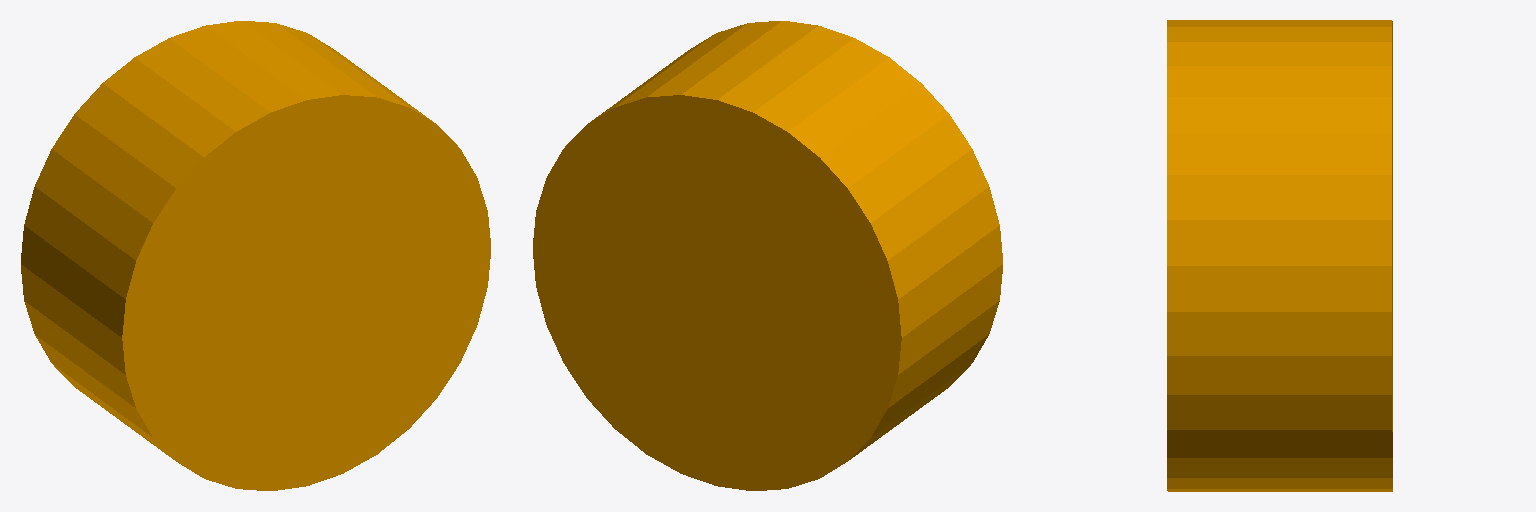
The robot description file, URDF, robot "my_robot":
<?xml version="1.0"?>
<robot name="my_robot">

<material name="black">
    <color rgba="0.0 0.0 0.0 1.0"/>
  </material>
  <material name="blue">
    <color rgba="0.203125 0.23828125 0.28515625 1.0"/>
  </material>
  <material name="green">
    <color rgba="0.0 0.8 0.0 1.0"/>
  </material>
  <material name="grey">
    <color rgba="0.2 0.2 0.2 1.0"/>
  </material>
  <material name="orange">
    <color rgba="1.0 0.423529411765 0.0392156862745 1.0"/>
  </material>
  <material name="brown">
    <color rgba="0.870588235294 0.811764705882 0.764705882353 1.0"/>
  </material>
  <material name="red">
    <color rgba="0.80078125 0.12890625 0.1328125 1.0"/>
  </material>
  <material name="white">
    <color rgba="1.0 1.0 1.0 1.0"/>
  </material>
  
    <gazebo reference="link_chassis">
    <material>Gazebo/Orange</material>
  </gazebo>
  <gazebo reference="link_left_wheel">
    <material>Gazebo/Blue</material>
  </gazebo>
  <gazebo reference="link_right_wheel">
    <material>Gazebo/Blue</material>
  </gazebo>
  
  
<!--
  
  <link name="base_link">
      <pose>0 0 0.1 0 0 0</pose>
    <inertial>
      <mass value="5"/>
      <origin rpy="0 0 0" xyz="0.013449 -0.000001 -0.024081"/>
      <inertia ixx="1.392949" ixy="0" ixz="-0.000108" iyy="1.392846" iyz="-0.000000" izz="-1.000000"/>
    </inertial>
	<visual>
	  <origin rpy="0 0 0" xyz="0 0 0"/>
	<geometry>
        <mesh filename="package://per_robot_urdf/meshes/two_plate.dae"/>
      </geometry>
      <material name="red"/>
    </visual>
    <collision >
      <geometry>
        <mesh filename="package://per_robot_urdf/meshes/two_plate.dae"/>
      </geometry>
    </collision>

  </link>

<joint name="joint_right_wheel" type="continuous">
	<parent link="base_link"/>
	<child link="right_wheel"/>
	<origin xyz="0 -0.30 0" rpy="0 0 0" />
	<axis xyz="0 1 0" />
</joint>
-->
  


    <link name="link_right_wheel">
    <inertial>
      <mass value="0.2"/>
      <origin rpy="0 1.570700 1.0472" xyz="1.10000 1.9 -0.3"/>
      <inertia ixx="0.000526666666667" ixy="0" ixz="0" iyy="0.000526666666667" iyz="0" izz="0.001"/>
    </inertial>
    <collision name="link_right_wheel_collision">
      <origin rpy="0 1.5707 1.5707" xyz="0 0 0"/>
	<geometry>
	 <cylinder length="2.1" radius="2.2" />
	</geometry>
    </collision>
    <visual name="link_right_wheel_visual">
      <origin rpy="0 1.5707 1.5707" xyz="0 0 0"/>
	<geometry>
	 <cylinder length="2.1" radius="2.2" />
	</geometry>
    </visual>
  </link>

        
  

      
      
      
            
     
  
 <!--    <joint type="continuous" name="right_wheel_hinge">
      <origin xyz="1.10000 1.9 -0.3" rpy="0 1.570700 1.0472"/>
      <axis rpy="0 1.570700 1.0472" xyz="1.10000 1.9 -0.3"/>
       <child link="right_wheel"/>
       <parent link="base_link"/>
       <limit effort="10000" velocity="1000"/>
       <joint_properties damping="1.0" friction="1.0"/>
   </joint>

  -->

      
      
      
      
      
      
</robot>

--- Render facts (derived) ---
The picture shows the robot from 3 angles, left to right: view 1: azimuth 30°, elevation 25°; view 2: azimuth 150°, elevation 25°; view 3: azimuth 270°, elevation 25°; orthographic projection.
Robot: my_robot — 1 links, 0 joints (none); root link link_right_wheel; default pose: every joint at zero.
Links seen in each view (by area): view 1: link_right_wheel; view 2: link_right_wheel; view 3: link_right_wheel.
Link boxes in pixels (left/top/right/bottom): link_right_wheel: left=21, top=21, right=490, bottom=490; link_right_wheel: left=533, top=21, right=1002, bottom=490; link_right_wheel: left=1167, top=20, right=1392, bottom=491.
Size in the robot's own frame: 4.4 by 2.1 by 4.4 metres.
Geometry: primitives only (box / cylinder / sphere), no mesh files.